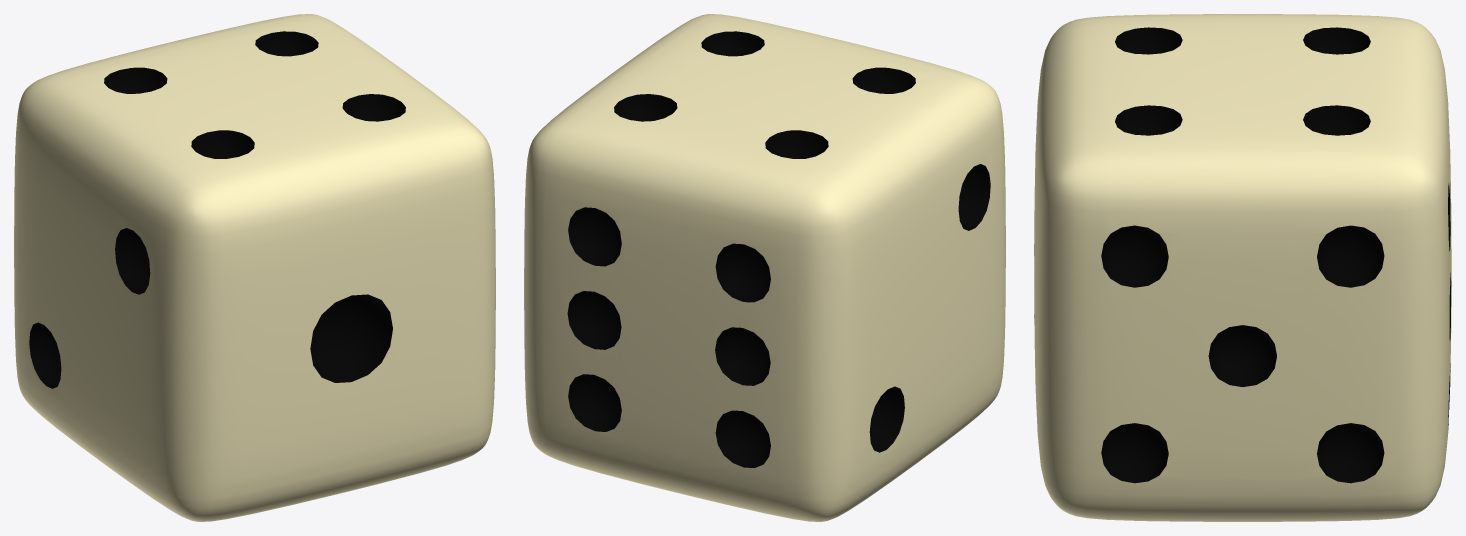
Rendered from uploads_files_5133094_Dice.fbx.
3 views of the same model, side by side, from view 1: azimuth 30°, elevation 25°; view 2: azimuth 150°, elevation 25°; view 3: azimuth 270°, elevation 25° (orthographic). The views are drawn at different scales.
Parts seen in each view (by area): view 1: Cube; view 2: Cube; view 3: Cube.
Part boxes in pixels (left/top/right/bottom): Cube: left=14, top=14, right=495, bottom=521; Cube: left=524, top=14, right=1005, bottom=521; Cube: left=1034, top=14, right=1451, bottom=521.
Bounding box in the file's own units: 199 × 199 × 199.
